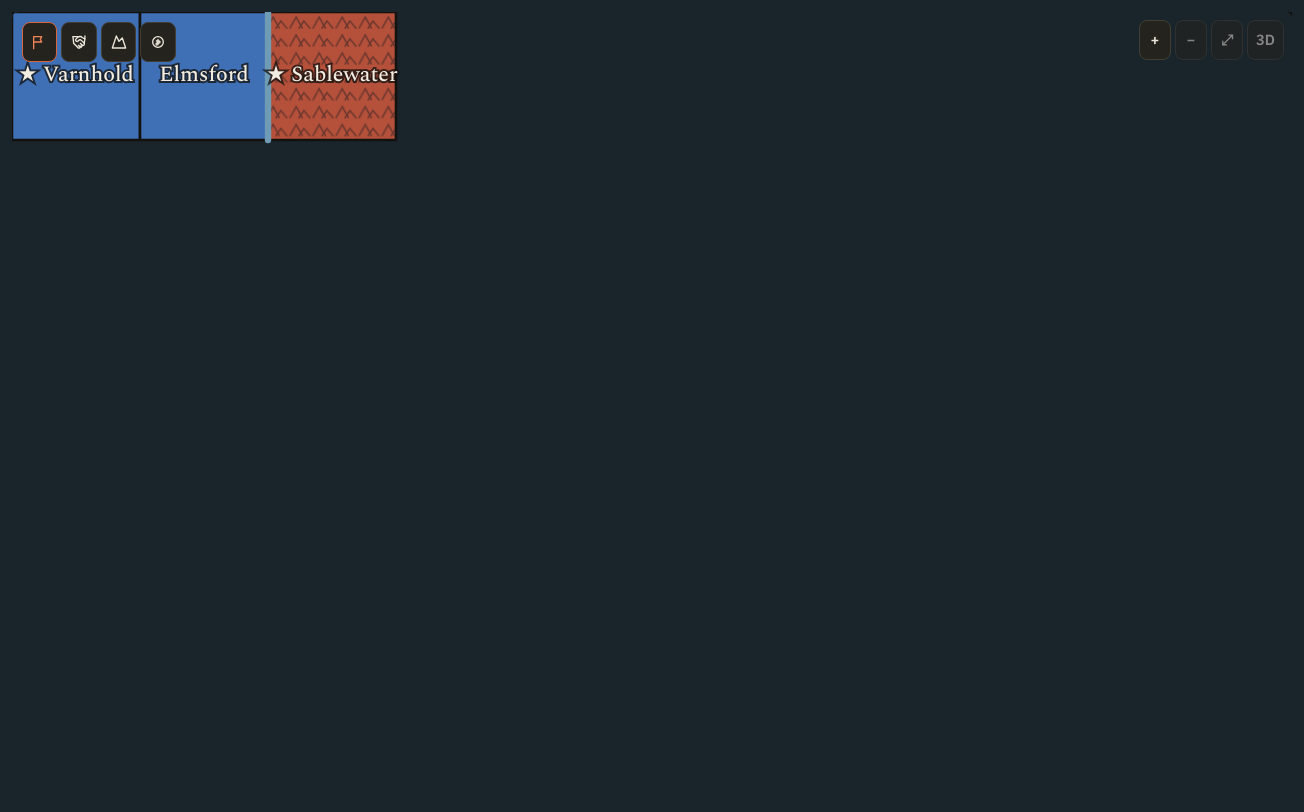
Diplomatic perspective › offers no reset while the map shows the viewer’s own relations
Click the button named "Diplomatic" at (79, 42), box [61,22,97,62]
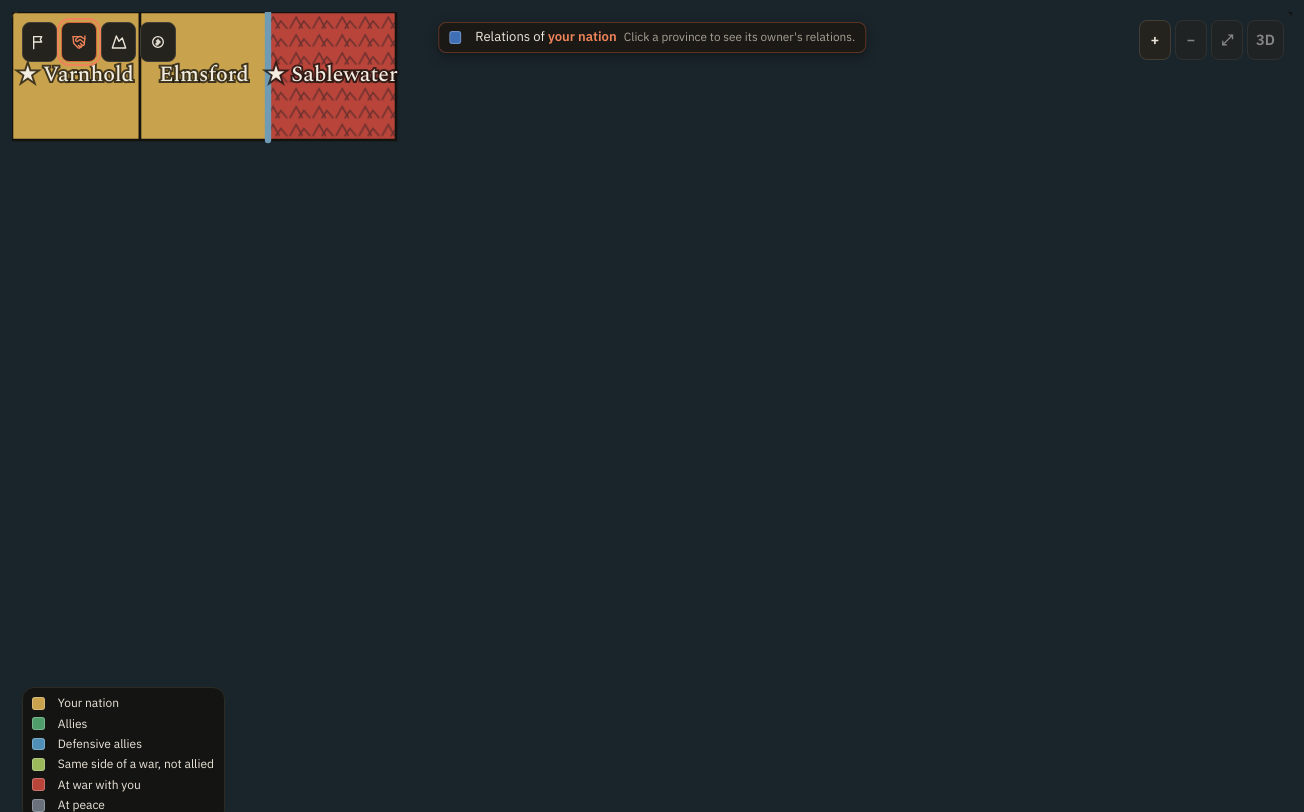
Now the message named "Diplomatic perspective" shows "Relations of your nation", box [438,22,866,53]
